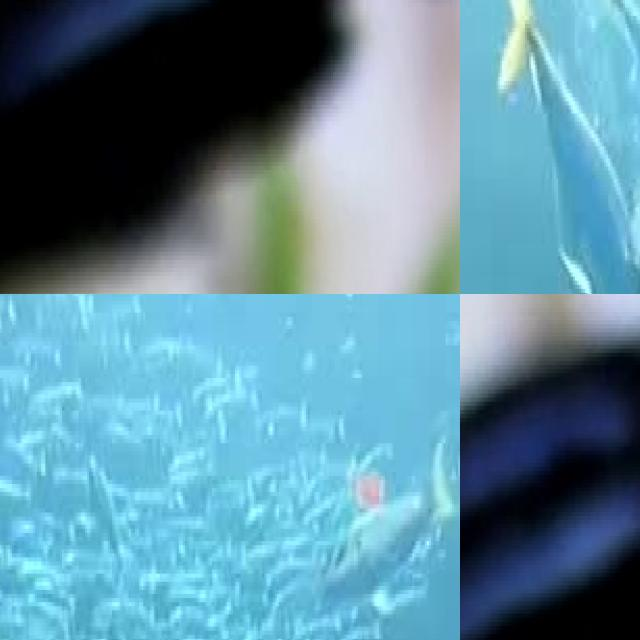fish: (0, 0, 460, 294), (460, 294, 640, 640)
